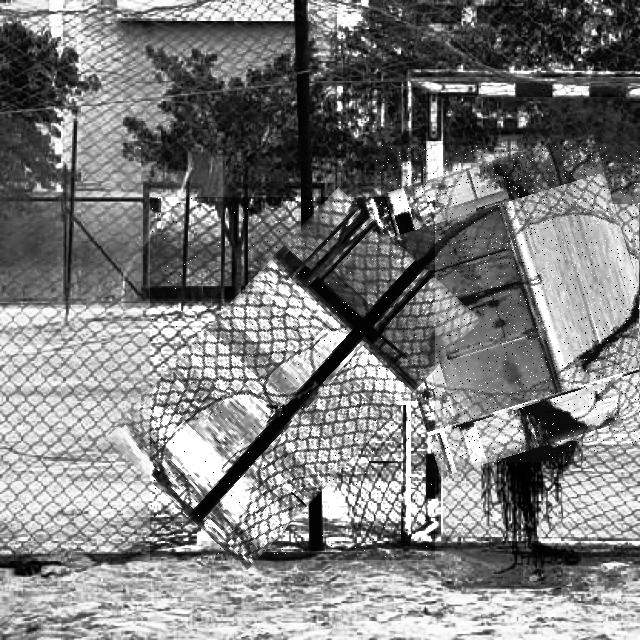anomaly-fence: (150, 197, 435, 560), (375, 145, 640, 462)
